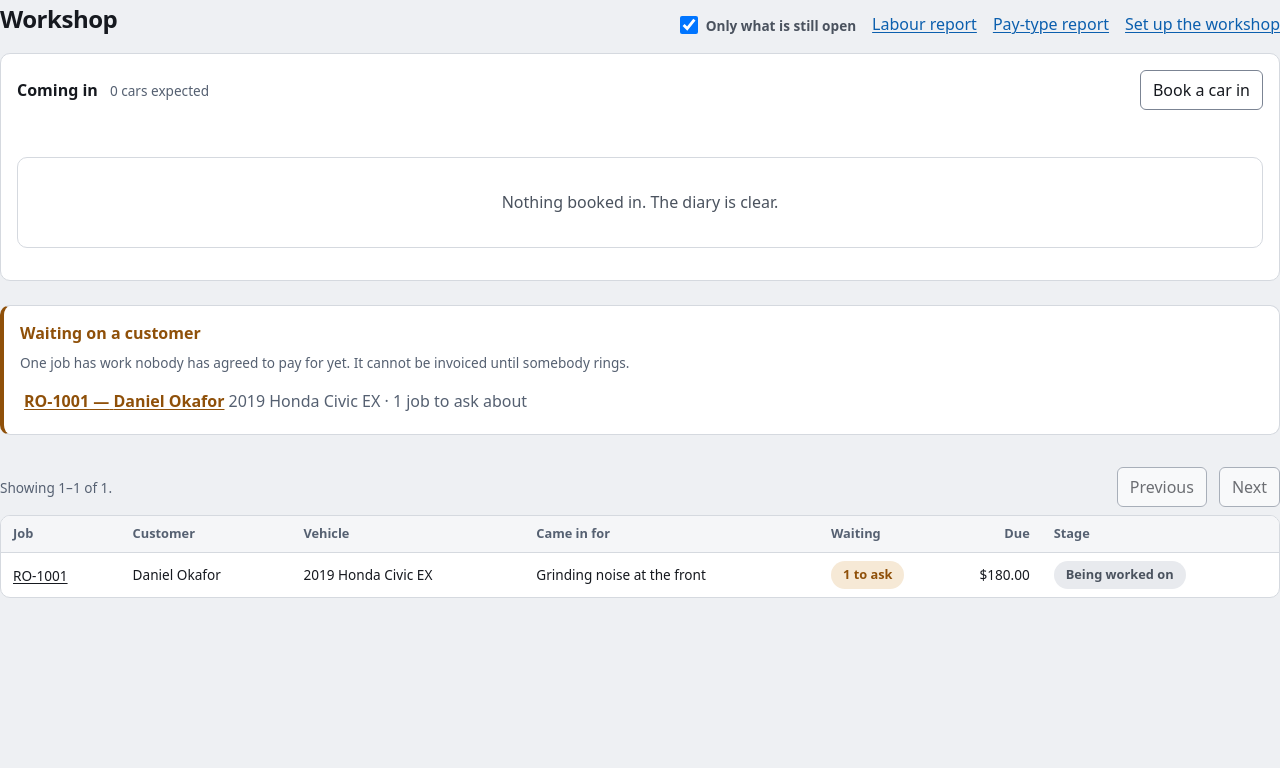
it: work nobody has agreed to › marks it as nobody having asked
Step 1. Click the button "RO-1001" → point(40, 575), box x1=13 y1=563 x2=68 y2=587
(page scrolled)
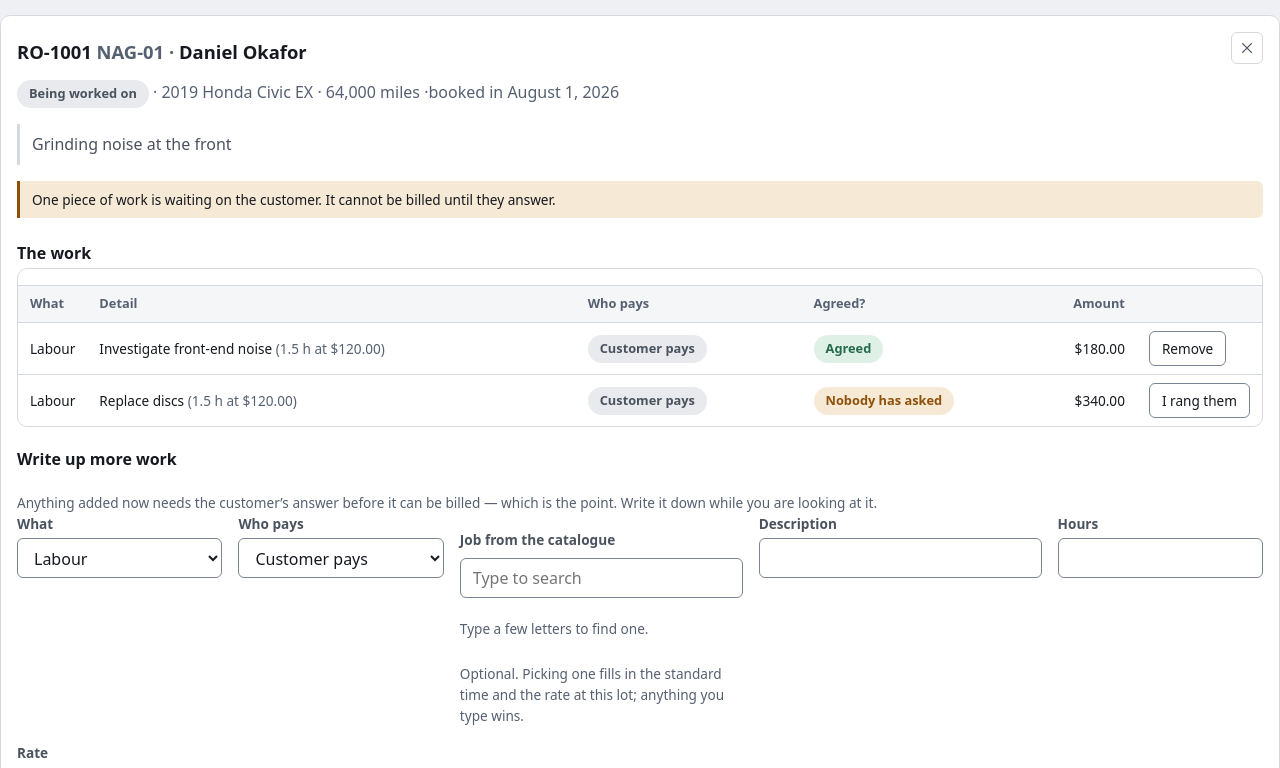
Expected: the text "Nobody has asked" is shown, x1=814 y1=387 x2=954 y2=414
